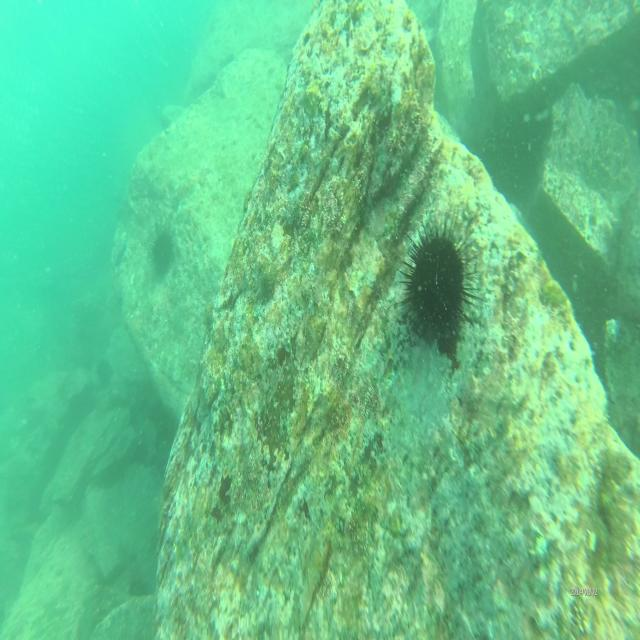echinus: (394, 204, 484, 348), (147, 222, 180, 282), (95, 353, 116, 397)
